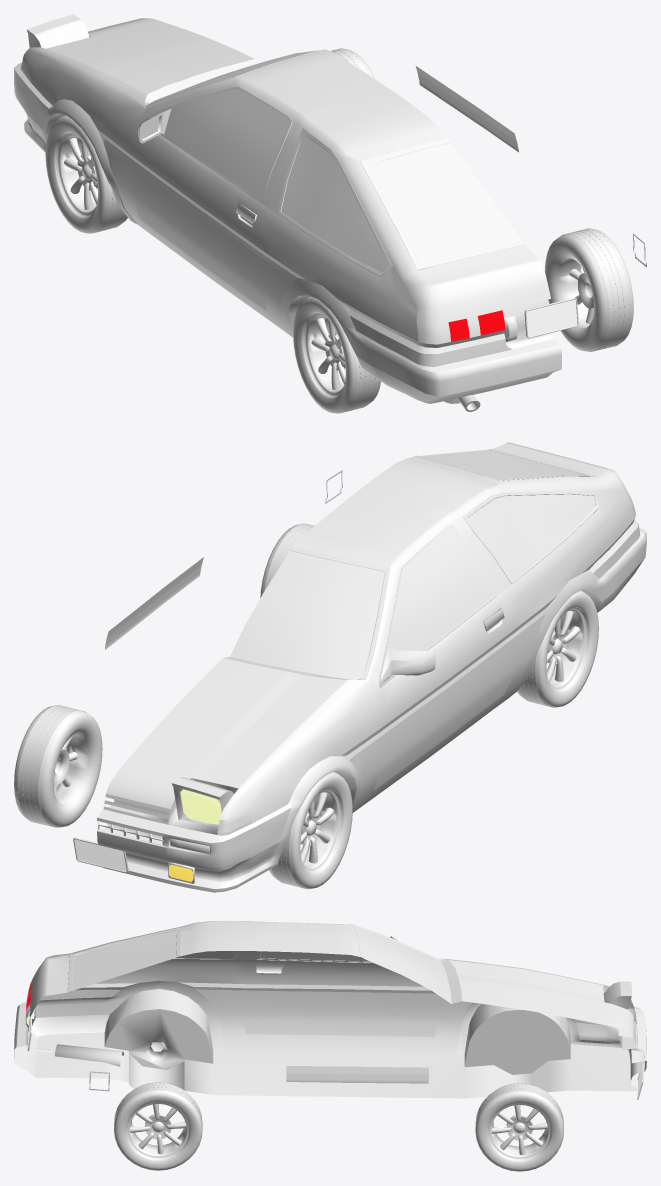
3 views of the same model, one above another, from view 1: azimuth 30°, elevation 25°; view 2: azimuth 150°, elevation 25°; view 3: azimuth 270°, elevation 25° (orthographic). The views are drawn at different scales.
Parts seen in each view (by area): view 1: body_ae86, wheelmesh_FR, wheelmesh_FL, wheelmesh_RL; view 2: body_ae86, wheelmesh_RR, wheelmesh_RL, wheelmesh_FL, wheelmesh_FR; view 3: body_ae86, wheelmesh_RR, wheelmesh_FR.
Boxes of the visible parts, <box> form: body_ae86: <box>14,14,646,411</box>; wheelmesh_FR: <box>544,228,633,351</box>; wheelmesh_FL: <box>293,296,380,413</box>; wheelmesh_RL: <box>45,115,127,233</box>; body_ae86: <box>73,442,646,892</box>; wheelmesh_RR: <box>14,705,102,827</box>; wheelmesh_RL: <box>269,772,352,889</box>; wheelmesh_FL: <box>517,590,598,707</box>; wheelmesh_FR: <box>260,523,314,597</box>; body_ae86: <box>14,921,646,1106</box>; wheelmesh_RR: <box>475,1083,563,1171</box>; wheelmesh_FR: <box>114,1082,202,1170</box>.
Size of the model in its own units: 1.81 by 1.32 by 4.4.
Materials: 16 (1 with a texture image).
